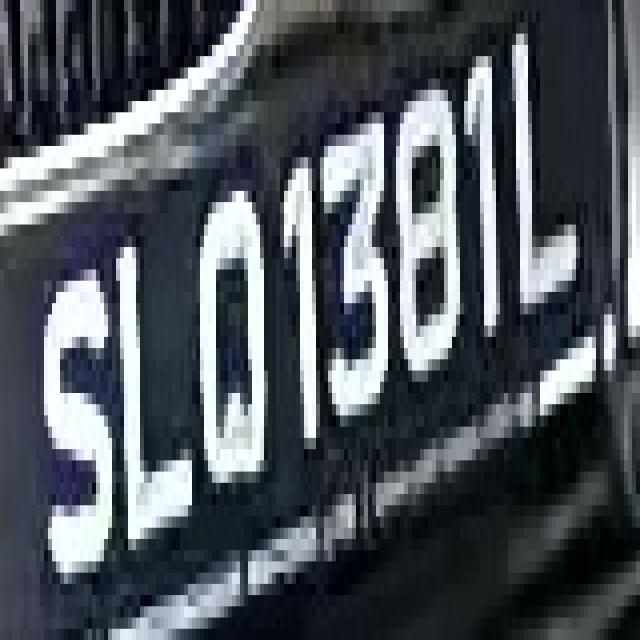1: (452, 33, 508, 370), (284, 123, 332, 483)
3: (324, 90, 396, 427)
8: (392, 45, 468, 449)
L: (496, 11, 584, 337), (116, 191, 188, 528)
Q: (196, 168, 280, 516)
S: (36, 236, 116, 584)
